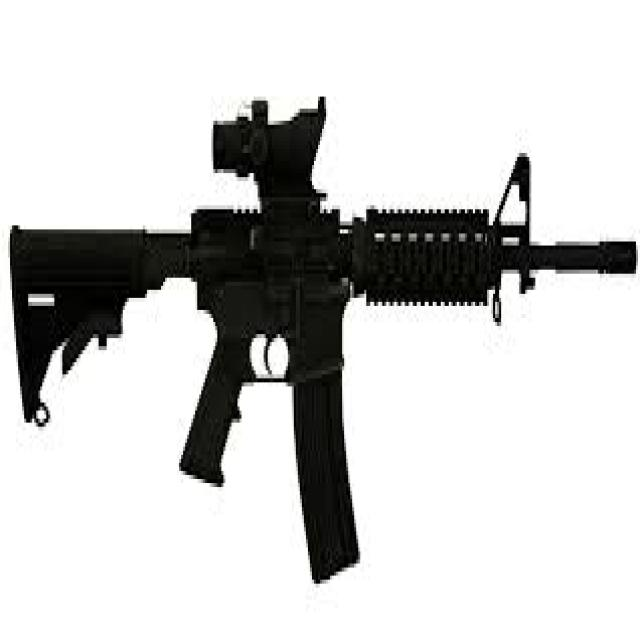rifle: (7, 78, 640, 589)
